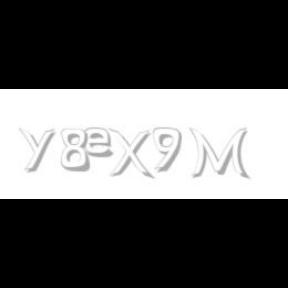8: (61, 128, 90, 172)
9: (153, 128, 182, 172)
M: (188, 128, 248, 180)
X: (108, 128, 152, 180)
e: (84, 128, 118, 158)
y: (19, 128, 59, 172)
